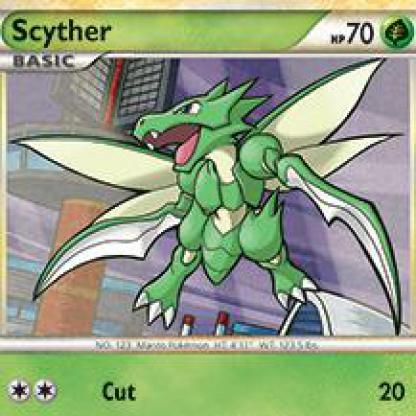Scyther: (1, 1, 415, 415)
